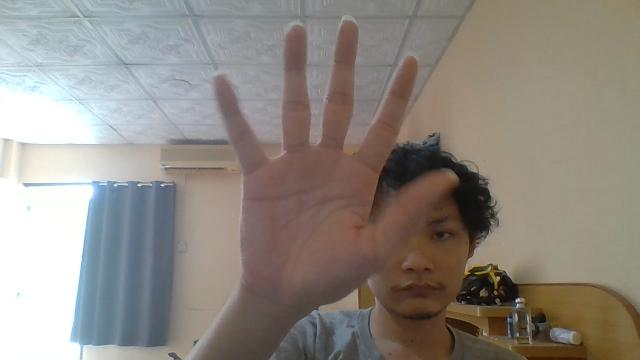Stop: (210, 14, 418, 310)
